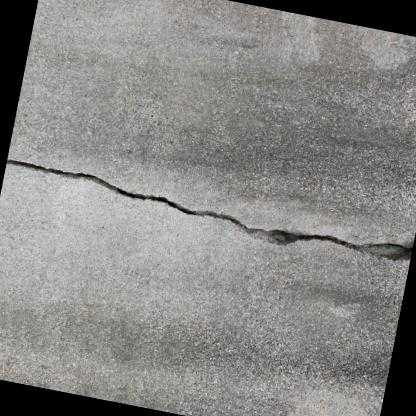crack: (6, 158, 412, 257)
